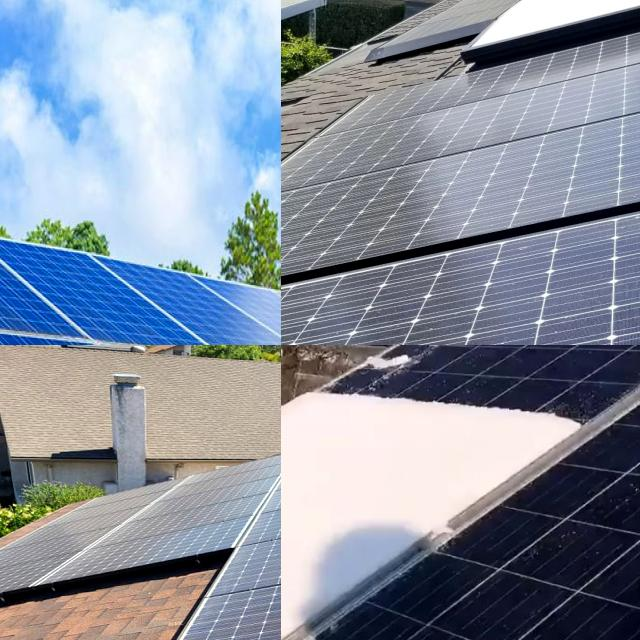crack: (0, 212, 221, 345), (83, 238, 281, 345), (0, 209, 115, 345)
panel: (281, 442, 525, 640), (332, 366, 582, 450), (451, 345, 640, 379), (341, 345, 436, 381)
